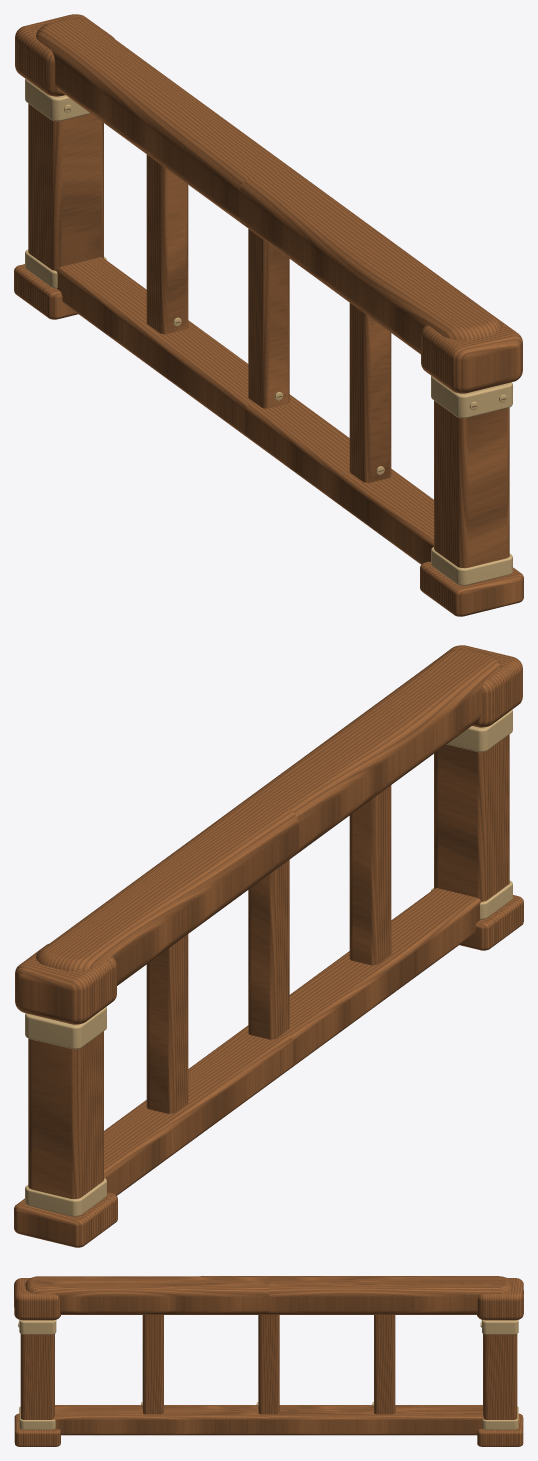
File: theatre_rail_moving_right.glb
3 renders of one model, top to bottom at view 1: azimuth 30°, elevation 25°; view 2: azimuth 150°, elevation 25°; view 3: azimuth 270°, elevation 25°, orthographic. The views are drawn at different scales.
Visible parts, largest first — view 1: right_handrail, right_bottom, right_front_shaft, right_rear_shaft, right_baluster2, right_baluster0, right_baluster1, right_front_cap, right_front_foot, right_rear_cap, right_front_collar, right_rear_foot (+2 smaller); view 2: right_handrail, right_bottom, right_rear_shaft, right_front_shaft, right_baluster2, right_baluster0, right_baluster1, right_rear_cap, right_rear_foot, right_front_cap, right_rear_collar, right_front_foot (+2 smaller); view 3: right_handrail, right_bottom, right_rear_shaft, right_front_shaft, right_baluster0, right_baluster1, right_baluster2, right_rear_cap, right_front_cap, right_front_foot, right_rear_foot, right_front_collar (+3 smaller).
Boxes of the visible parts, x1=… form: right_handrail: x1=36, y1=18, x2=501, y2=354; right_bottom: x1=55, y1=257, x2=433, y2=564; right_front_shaft: x1=434, y1=400, x2=509, y2=568; right_rear_shaft: x1=28, y1=103, x2=103, y2=270; right_baluster2: x1=349, y1=303, x2=391, y2=482; right_baluster0: x1=146, y1=154, x2=188, y2=334; right_baluster1: x1=248, y1=229, x2=289, y2=408; right_front_cap: x1=421, y1=318, x2=522, y2=393; right_front_foot: x1=420, y1=561, x2=523, y2=616; right_rear_cap: x1=15, y1=14, x2=114, y2=96; right_front_collar: x1=431, y1=376, x2=512, y2=418; right_rear_foot: x1=14, y1=264, x2=78, y2=319; right_handrail: x1=36, y1=649, x2=501, y2=985; right_bottom: x1=104, y1=888, x2=481, y2=1195; right_rear_shaft: x1=28, y1=1031, x2=103, y2=1199; right_front_shaft: x1=434, y1=734, x2=509, y2=901; right_baluster2: x1=349, y1=785, x2=391, y2=965; right_baluster0: x1=146, y1=934, x2=188, y2=1113; right_baluster1: x1=248, y1=860, x2=289, y2=1039; right_rear_cap: x1=15, y1=944, x2=116, y2=1024; right_rear_foot: x1=14, y1=1192, x2=117, y2=1247; right_front_cap: x1=438, y1=645, x2=522, y2=727; right_rear_collar: x1=25, y1=1007, x2=106, y2=1049; right_front_foot: x1=459, y1=895, x2=523, y2=950; right_handrail: x1=25, y1=1276, x2=512, y2=1314; right_bottom: x1=53, y1=1405, x2=484, y2=1435; right_rear_shaft: x1=483, y1=1334, x2=517, y2=1419; right_front_shaft: x1=20, y1=1334, x2=54, y2=1419; right_baluster0: x1=374, y1=1315, x2=395, y2=1414; right_baluster1: x1=258, y1=1315, x2=279, y2=1414; right_baluster2: x1=142, y1=1315, x2=163, y2=1414; right_rear_cap: x1=477, y1=1278, x2=523, y2=1320; right_front_cap: x1=14, y1=1278, x2=60, y2=1320; right_front_foot: x1=14, y1=1413, x2=60, y2=1446; right_rear_foot: x1=477, y1=1413, x2=523, y2=1446; right_front_collar: x1=19, y1=1320, x2=56, y2=1334.
Bounding box in the file's own units: 0.036 × 0.1305 × 0.386.
Materials: 3 (1 with a texture image).
